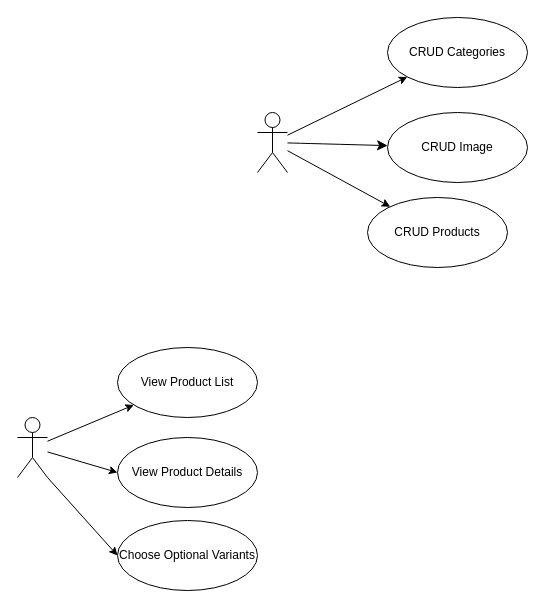
Image size: 545x608. Some labels were removed from this diagram. The shapes that lost their labels are listed below. From the top down, each one's centre as x and y in pixels, then its label:
At [272,142]: "SysAdmin".
At [32,447]: "Buyer".
